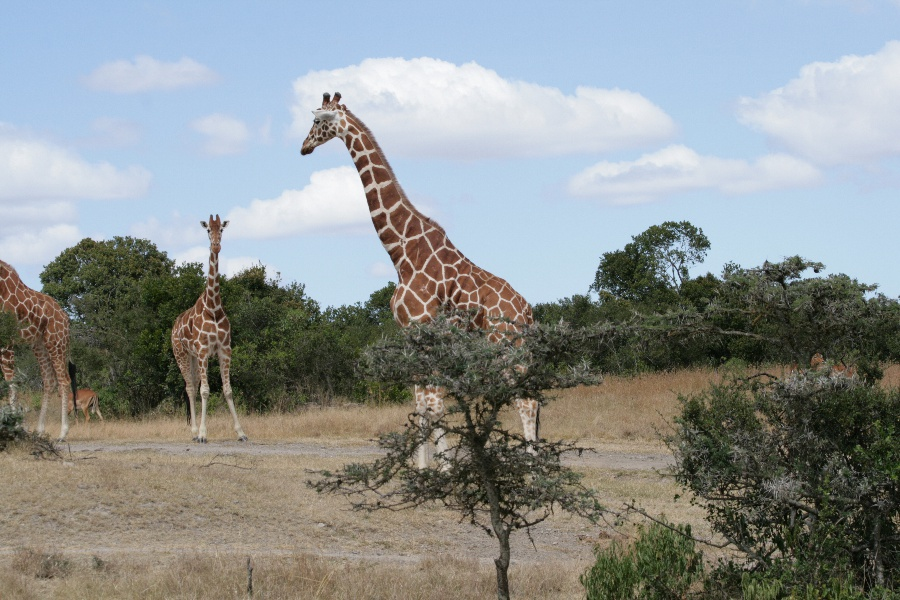giraffe: (291, 88, 557, 489), (167, 208, 255, 452), (0, 241, 79, 448)
